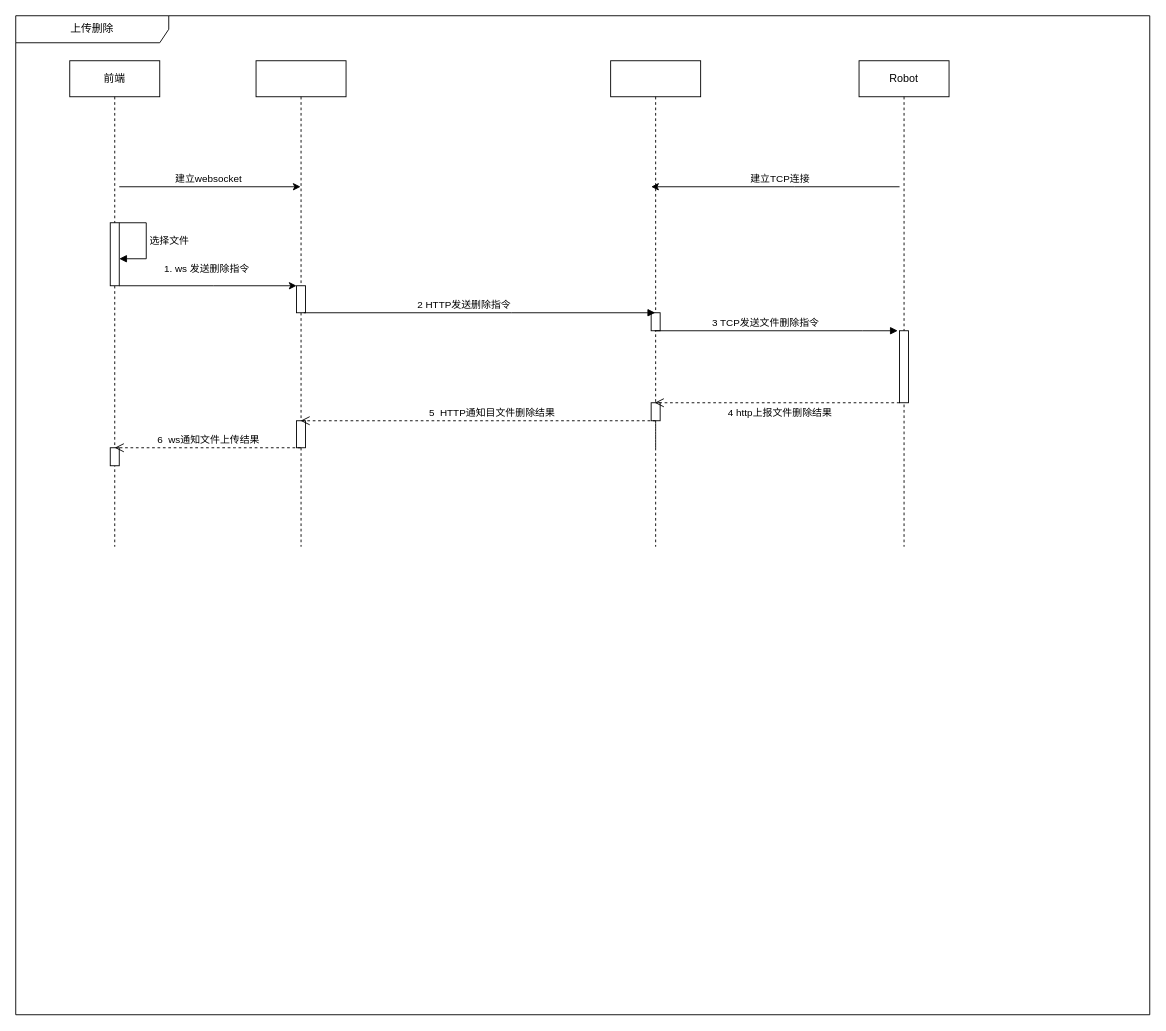
The diagram is 1166 pixels wide and 1031 high, and some of its shapes have lost their labels. The box of each missing label's shape, as (x1, y1, x2, y2) in pixels:
OTA: (610, 60, 701, 547)
后端: (255, 60, 346, 547)
